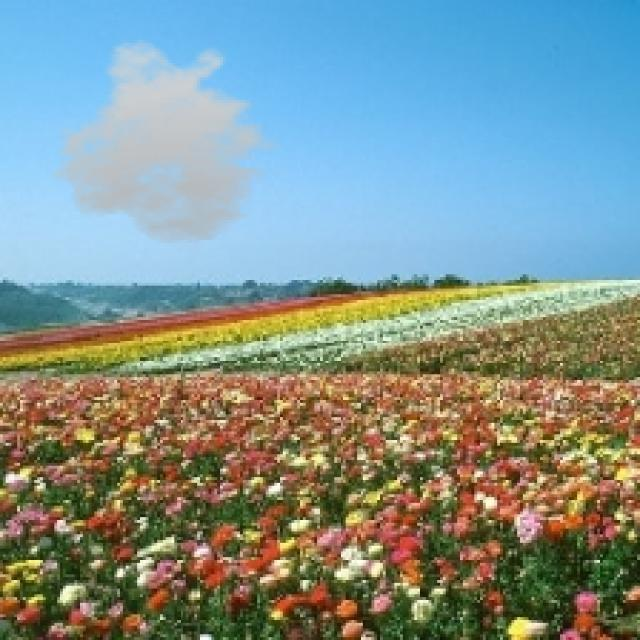Smoke: (48, 37, 294, 246)
